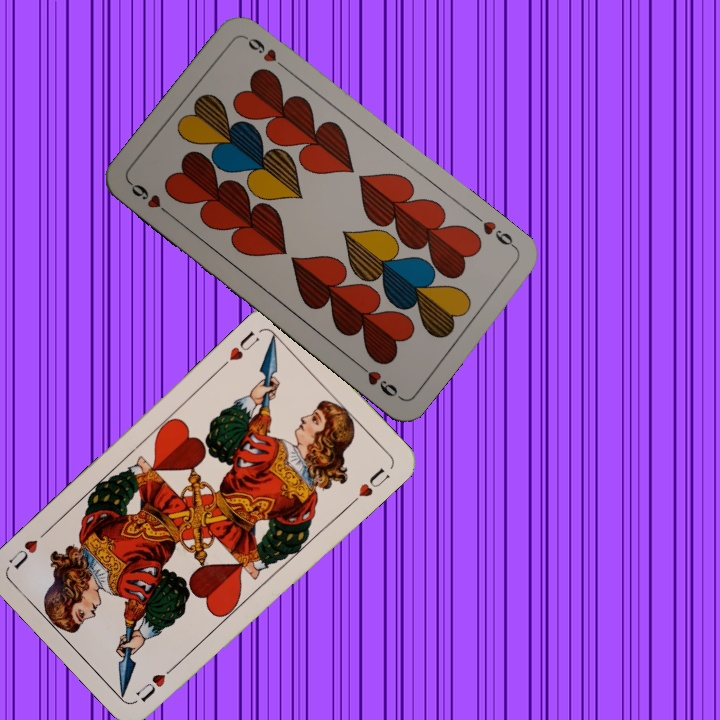H9: (126, 178, 176, 220), (471, 211, 521, 253)
HU: (132, 659, 181, 705), (225, 326, 262, 364)
